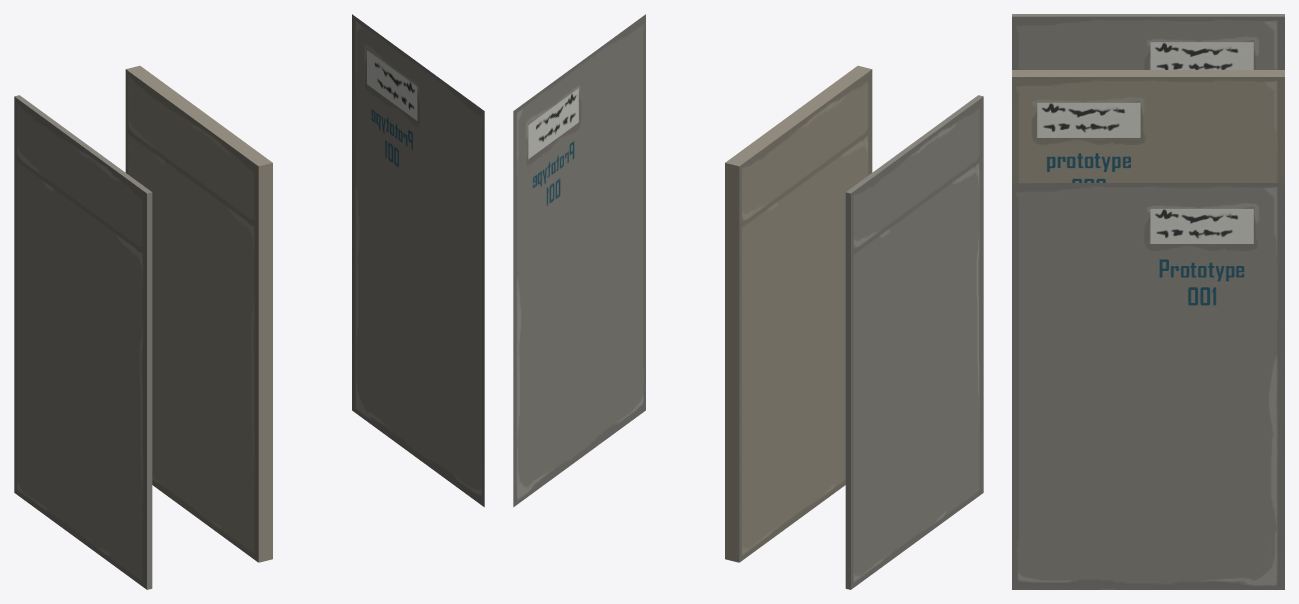
The model's file is normalFile&CheckList-11m.fbx.
3 renders of one model, left to right at view 1: azimuth 30°, elevation 25°; view 2: azimuth 150°, elevation 25°; view 3: azimuth 270°, elevation 25°, orthographic. The views are drawn at different scales.
Parts seen in each view (by area): view 1: file2, file23, file18; view 2: file2, file23, file18; view 3: file23, file18, file2.
Boxes of the visible parts, box(x1,y1,x2,y2) form: file2: box(14, 95, 152, 589); file23: box(352, 14, 484, 507); file18: box(125, 65, 272, 562); file2: box(845, 95, 983, 589); file23: box(513, 14, 645, 507); file18: box(725, 65, 872, 562); file23: box(1012, 183, 1284, 589); file18: box(1012, 70, 1284, 182); file2: box(1012, 14, 1284, 69).
Size of the model in its own units: 3.46 by 3.88 by 2.36.
